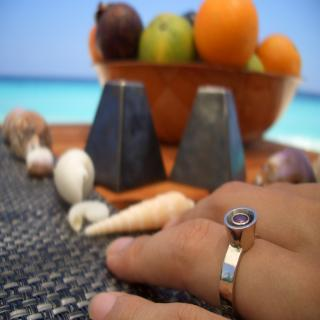Orange: (193, 0, 263, 63), (258, 36, 302, 74)
